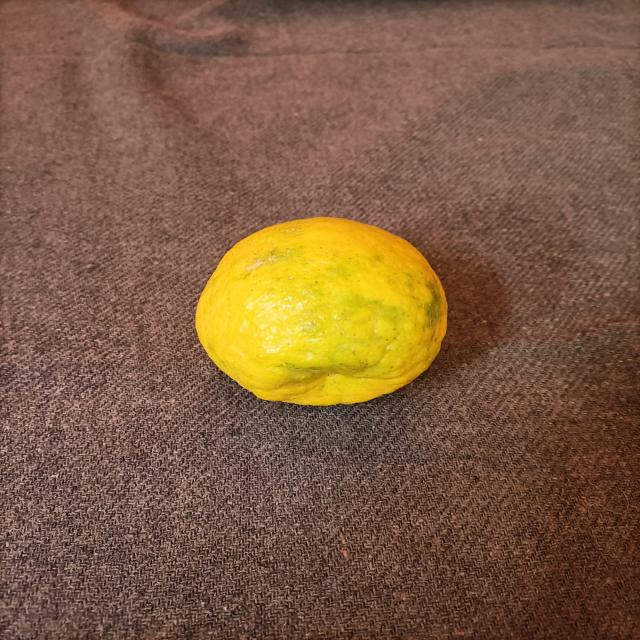orange: (143, 172, 489, 532)
